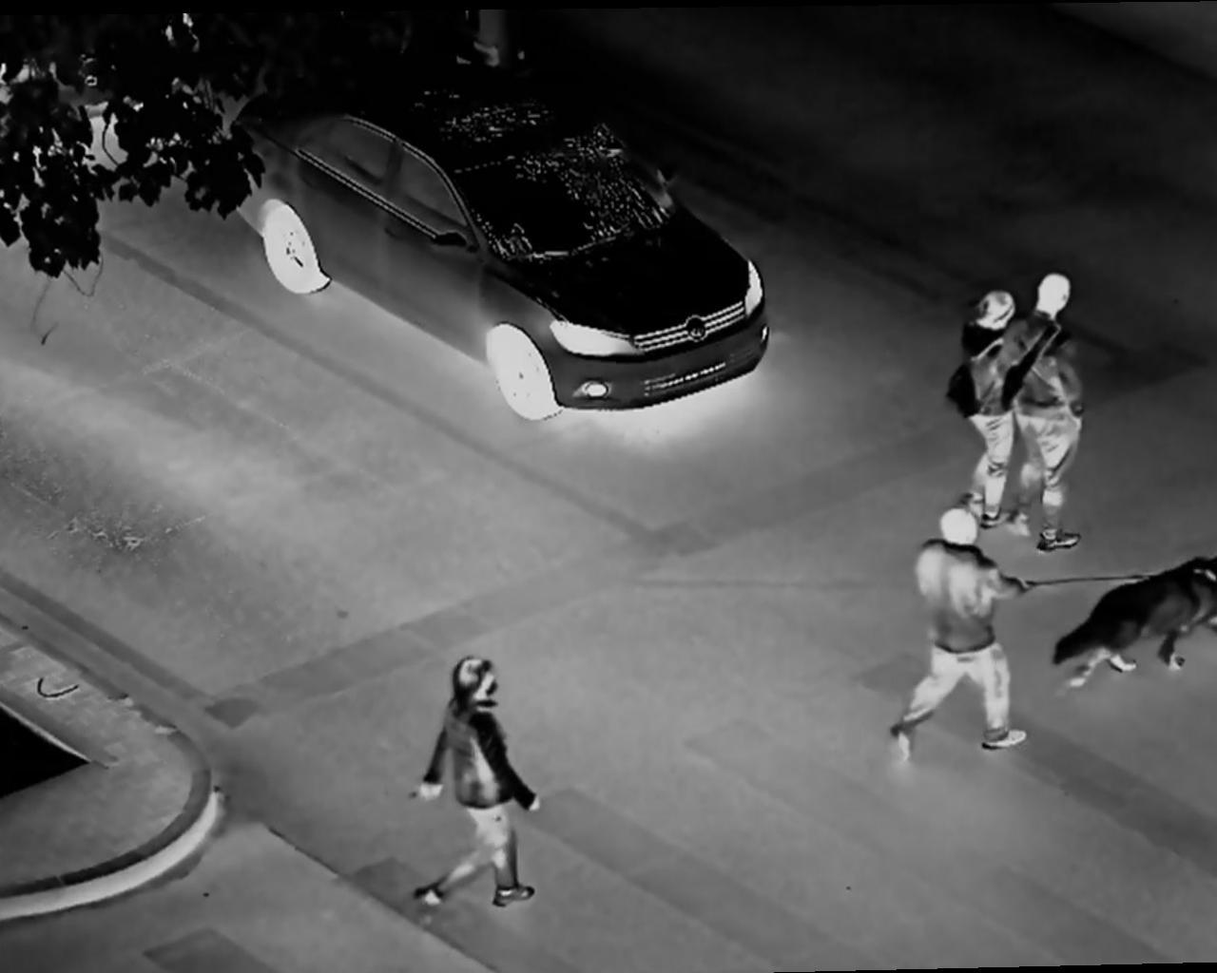person: (897, 510, 1033, 761), (413, 657, 541, 921), (1014, 273, 1095, 555), (950, 290, 1022, 521)
